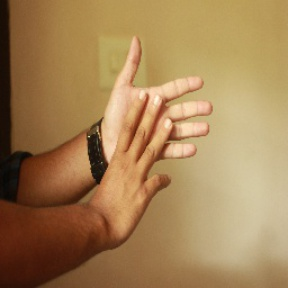M: (84, 34, 214, 206)
